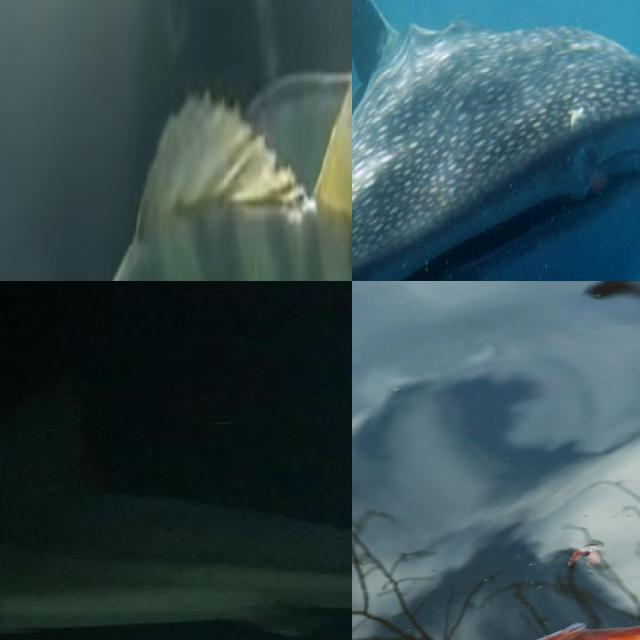fish: (352, 281, 640, 640), (0, 0, 352, 281), (0, 373, 352, 640), (352, 0, 640, 281)
